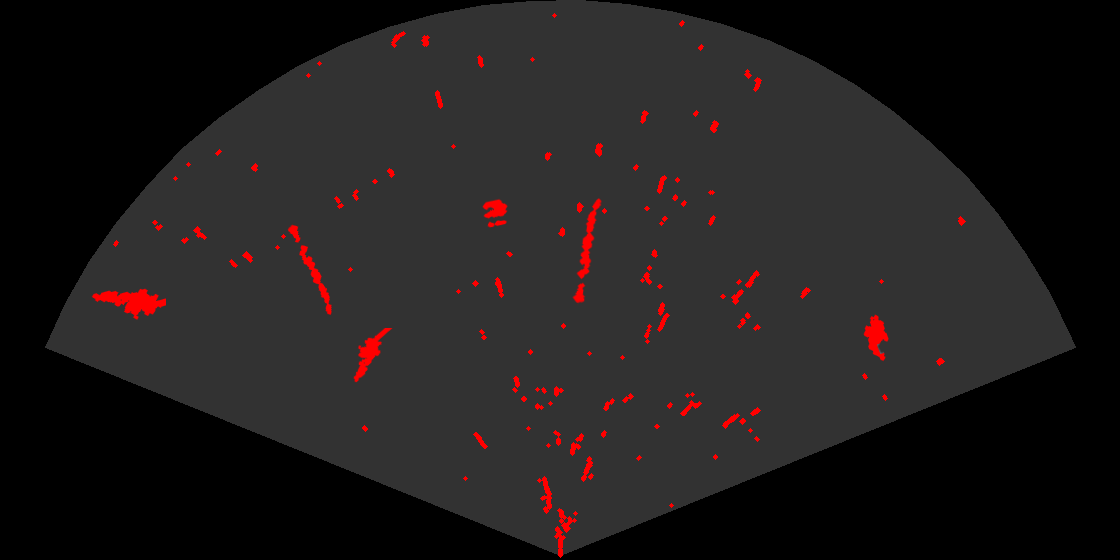AUV: (862, 313, 890, 362)
ball: (481, 197, 509, 229)
chain: (286, 223, 333, 316), (571, 197, 603, 305)
frogman: (90, 287, 166, 321), (352, 328, 394, 384)
